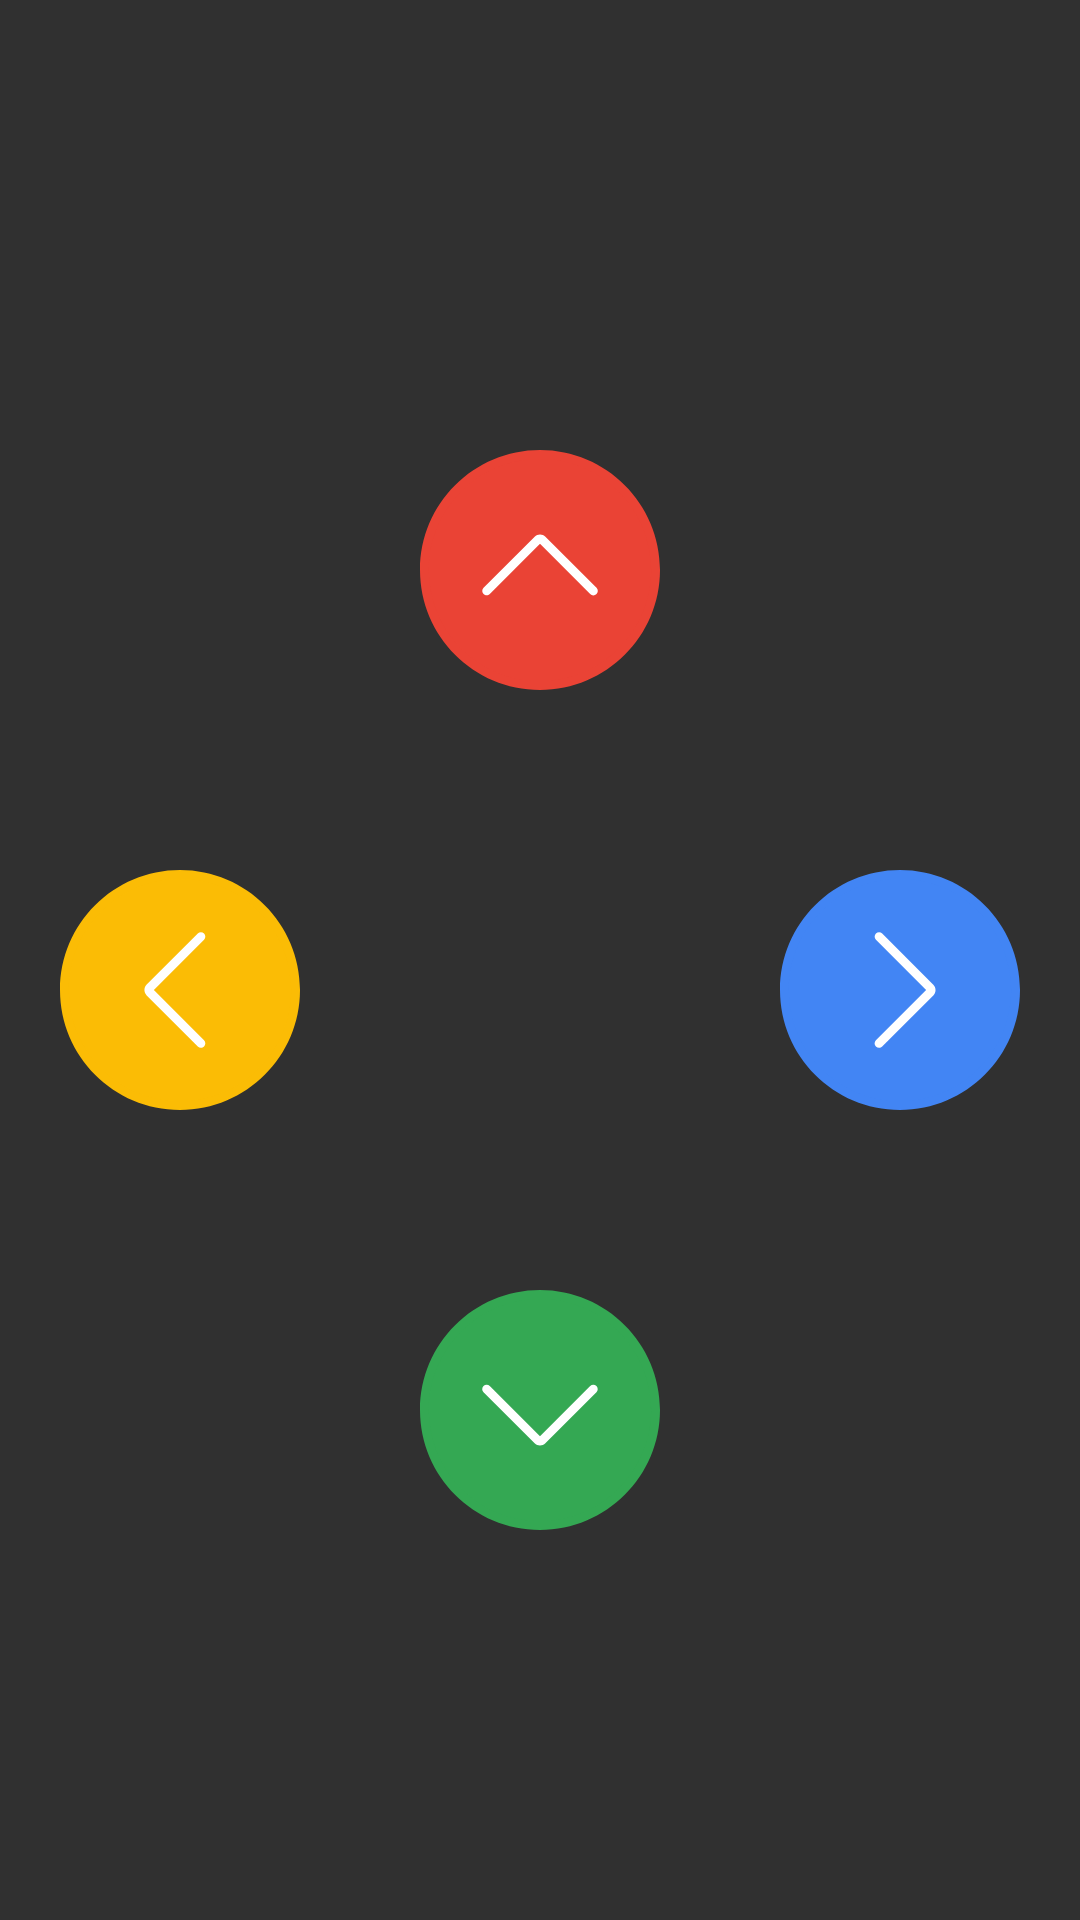

Icons on this 1080 x 1920 Android screen, each with the point to tap as [x,y]:
down arrow: [540,1410]
left arrow: [180,990]
right arrow: [900,990]
up arrow: [540,570]
